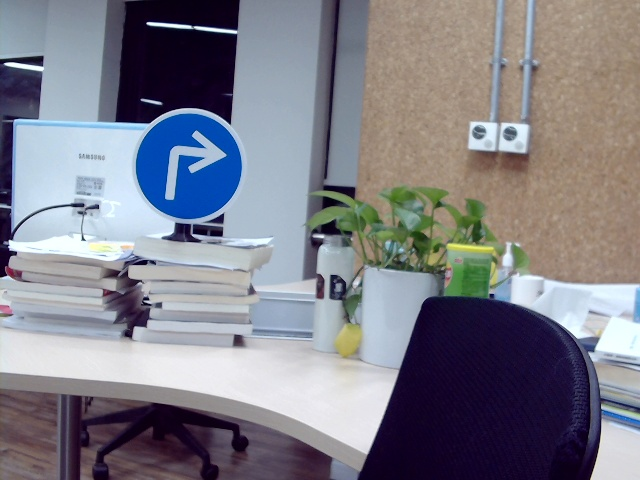turn_right: (158, 129, 227, 201)
